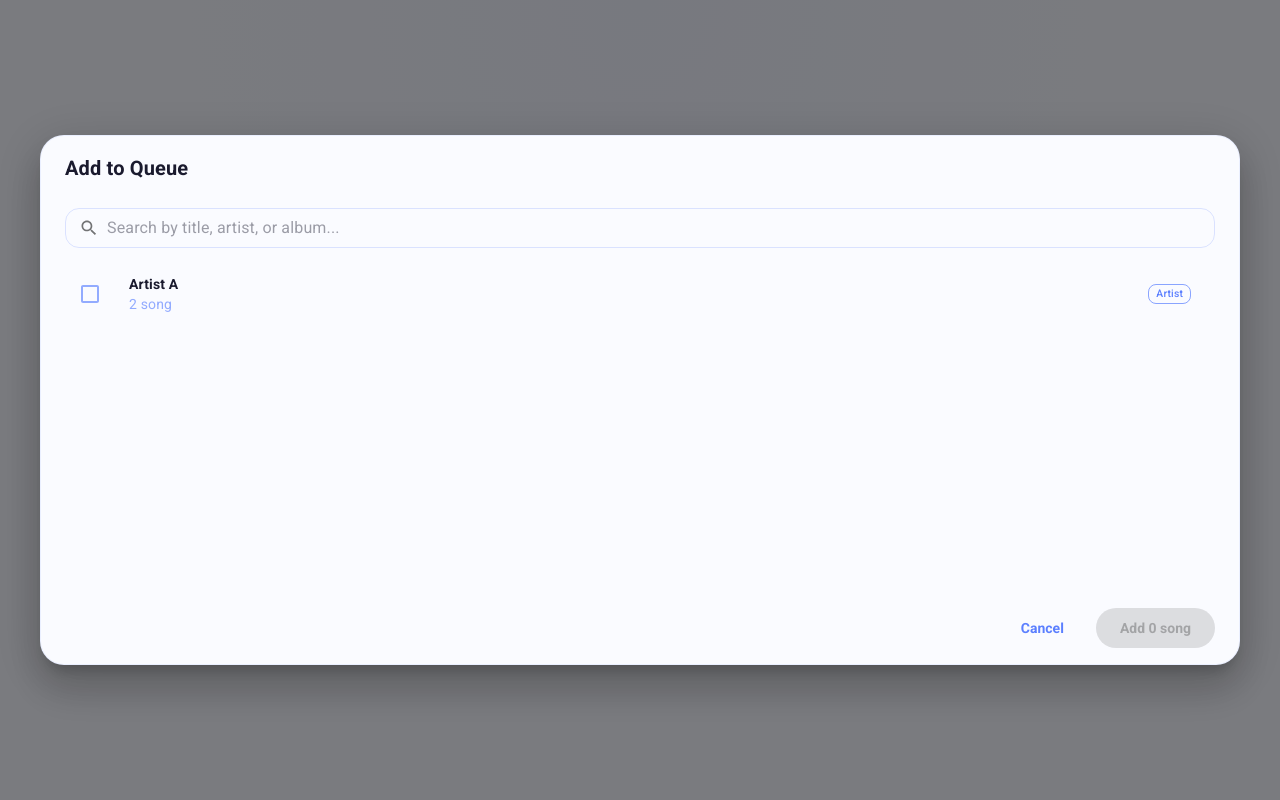
Test case: QueueAddDialog › clears the selection when using the clear button
Click the checkbox.
click(90, 294)  # box [78,282,102,306]
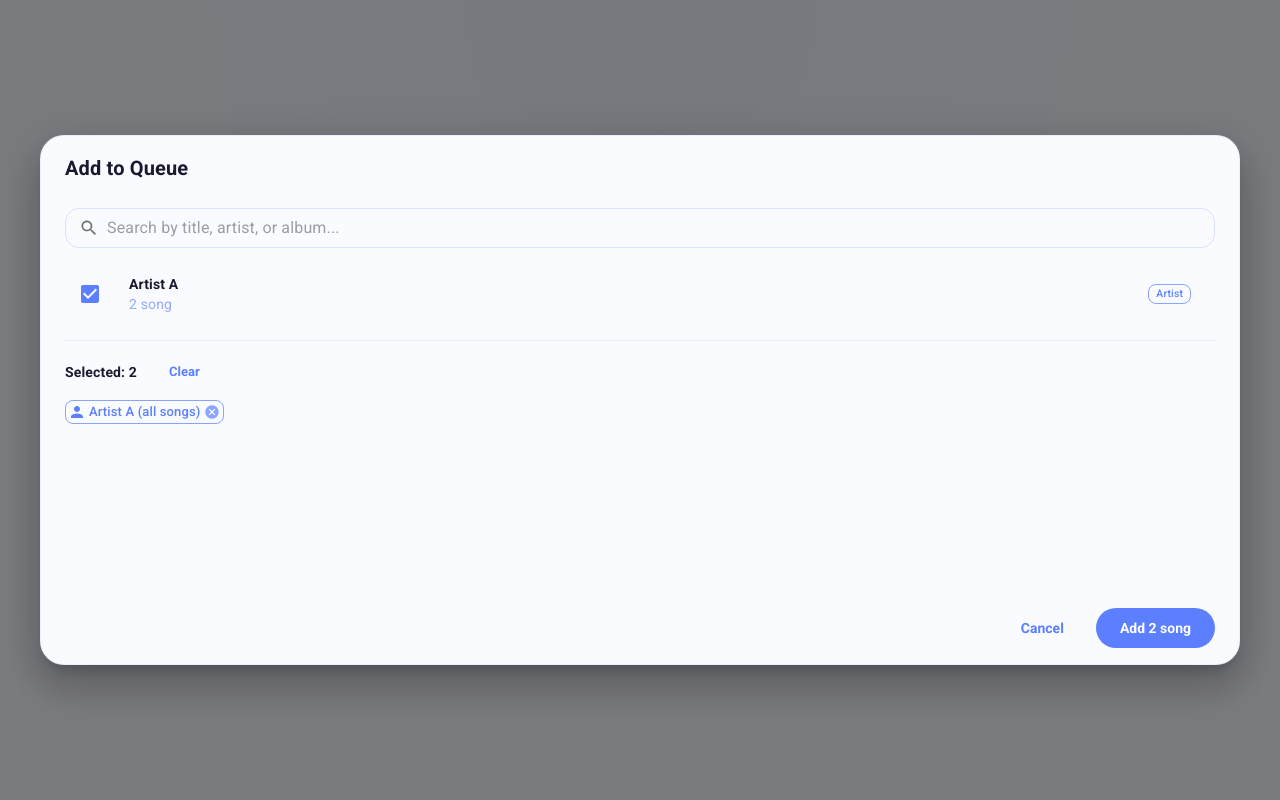
Now the text "Selected: 2" is shown, box [65,362,137,382]
Click the button "Clear".
click(184, 372)  # box [145,353,224,392]
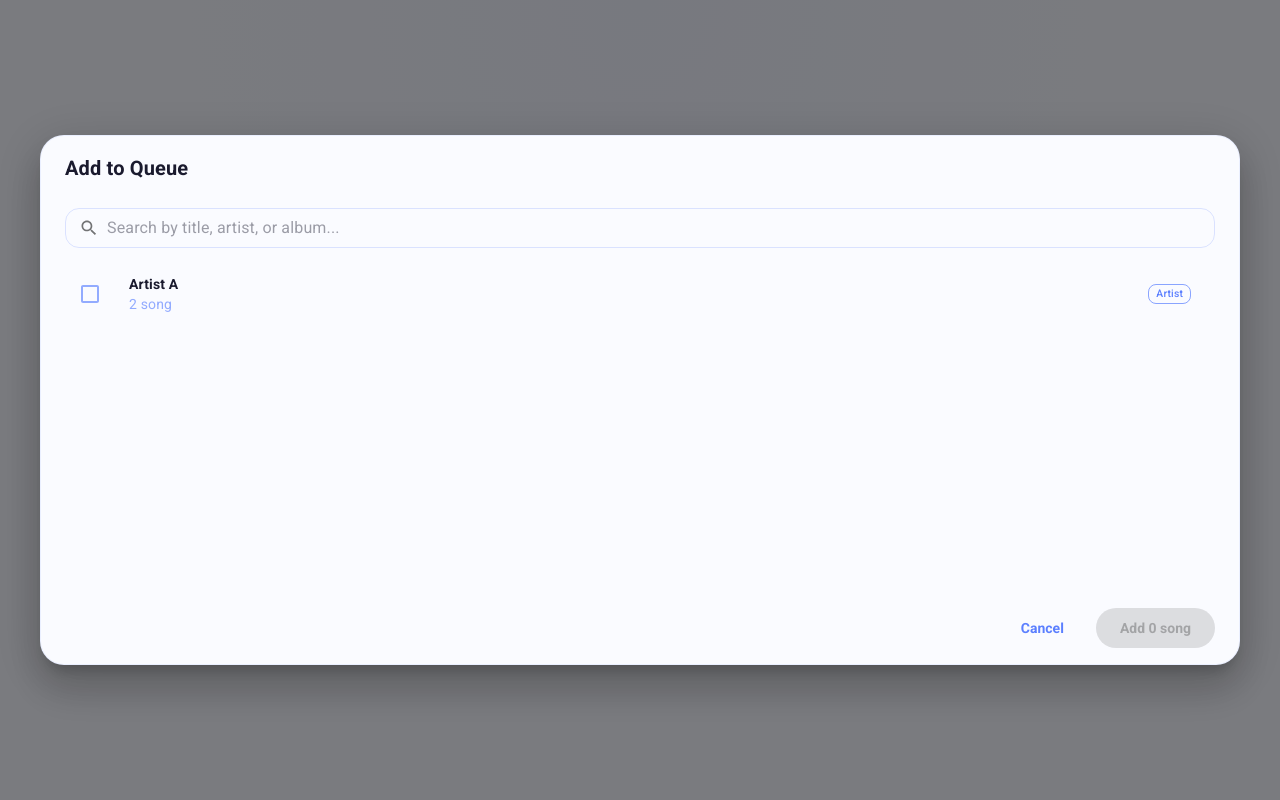
Now the text "Selected: 2" is gone
Now the button "Add 0 song" is disabled, box [1096,608,1215,648]
